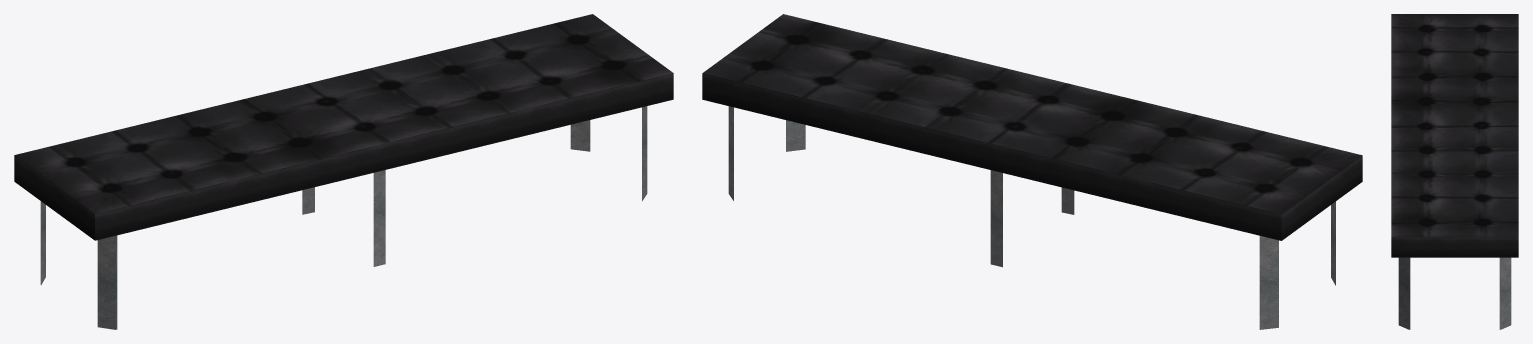
Rendered from p_jun_officebench_lod3.glb.
3 renders of one model, left to right at view 1: azimuth 30°, elevation 25°; view 2: azimuth 150°, elevation 25°; view 3: azimuth 270°, elevation 25°, orthographic. The views are drawn at different scales.
Parts seen in each view (by area): view 1: surf0; view 2: surf0; view 3: surf0.
Boxes of the visible parts, x1,y1,x2,y2 form: surf0: (14,14,673,329); surf0: (702,14,1362,329); surf0: (1391,14,1518,329).
Size of the model in its own units: 85.61 by 17.72 by 20.7.
